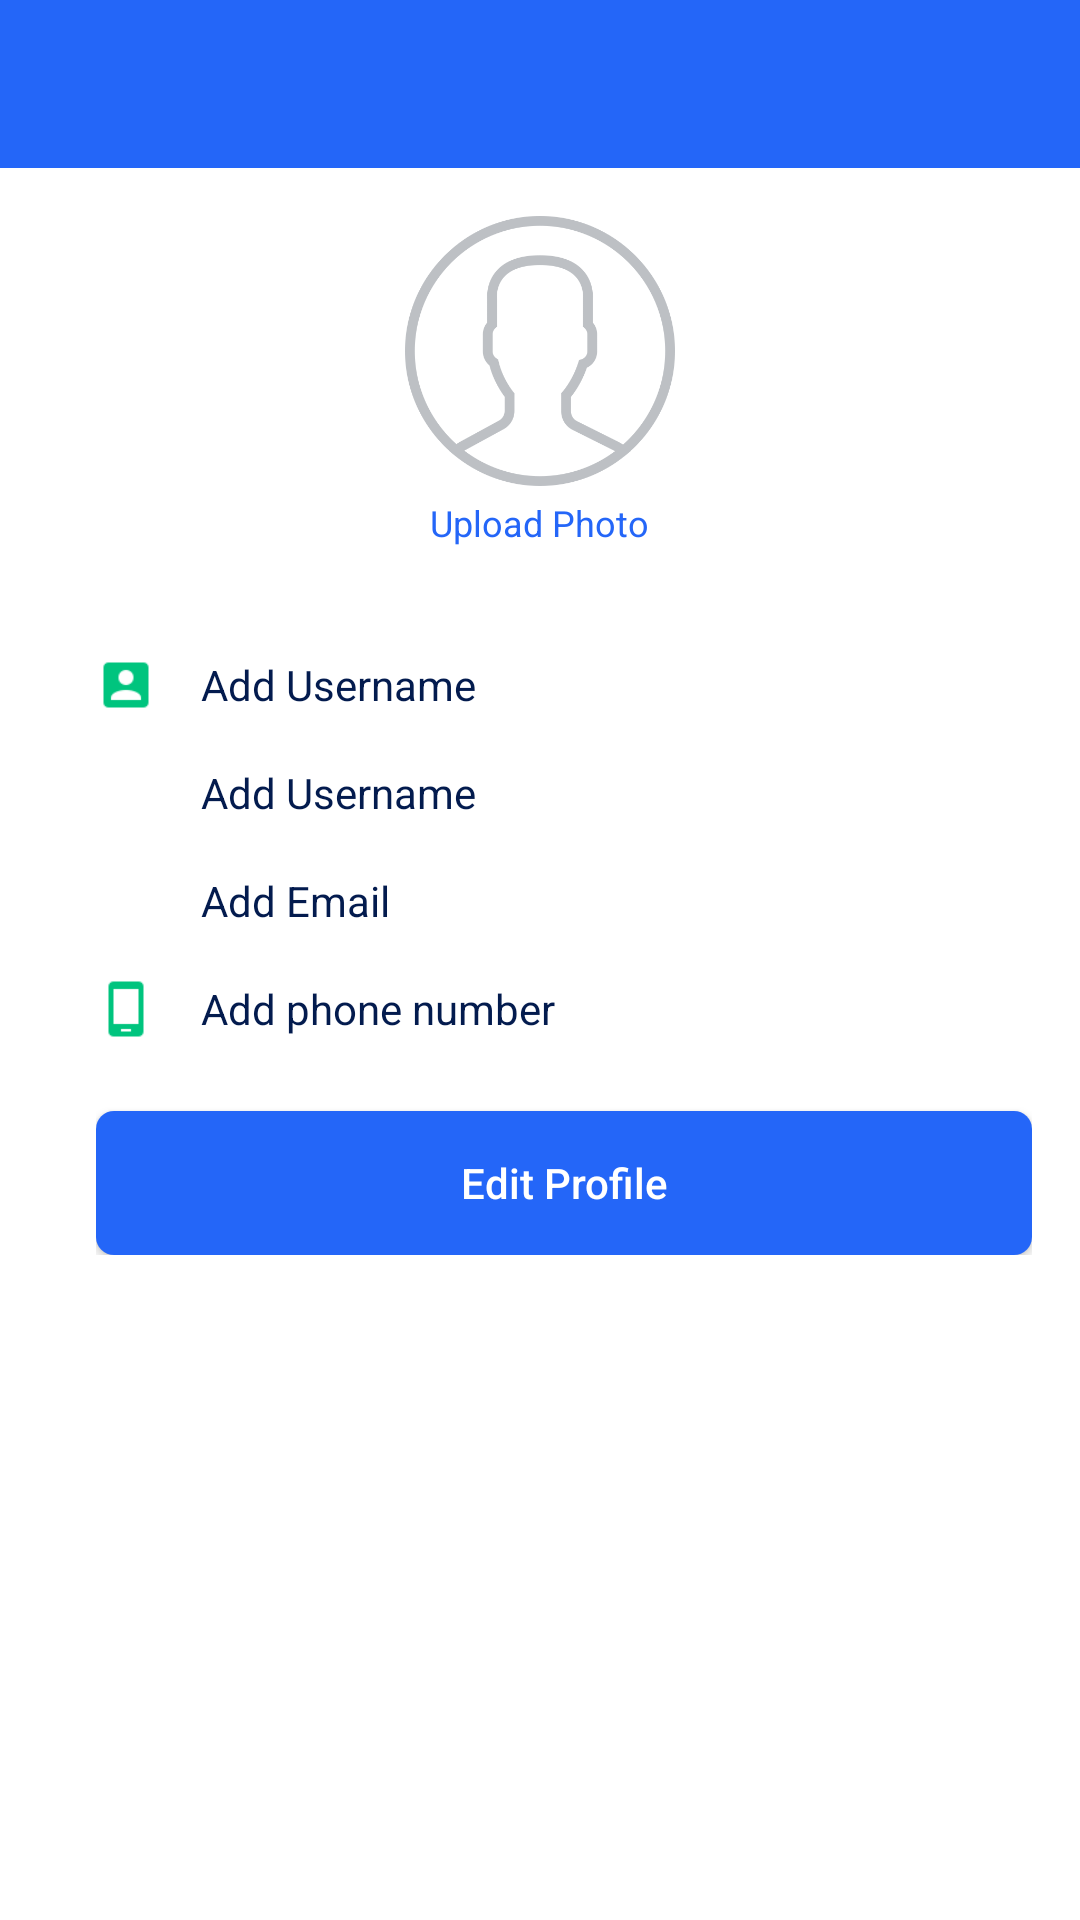

Where icons sit on this 1080 x 1920 app screen, as (x1=x1, y1=y1, x2=x2, y2=y2):
no profile photo: (x1=405, y1=216, x2=675, y2=486)
